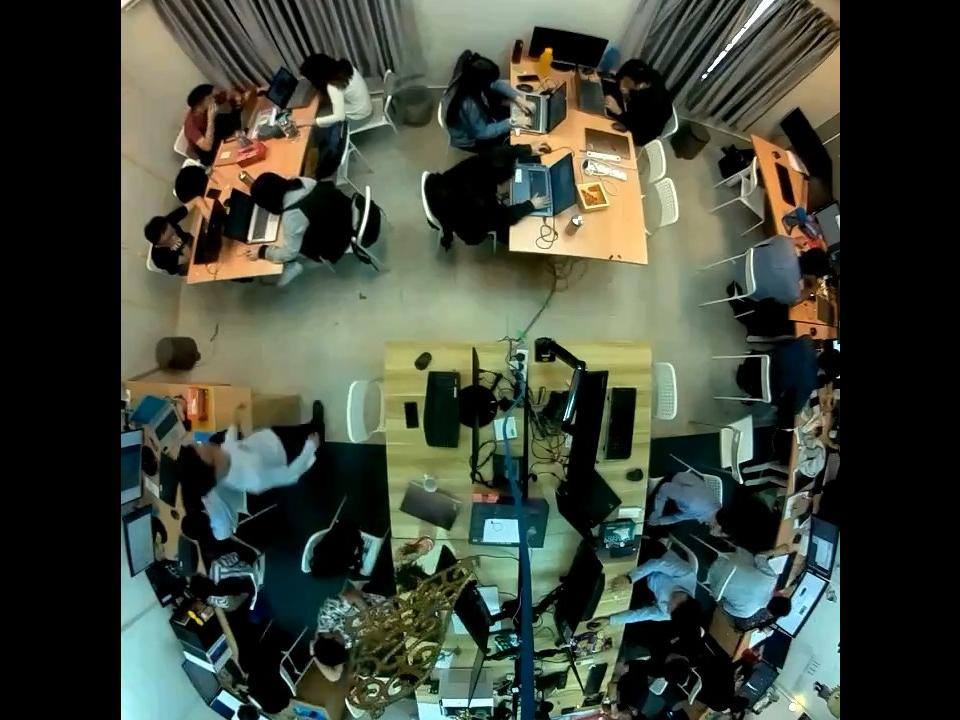name-tag: (235, 442, 251, 452)
